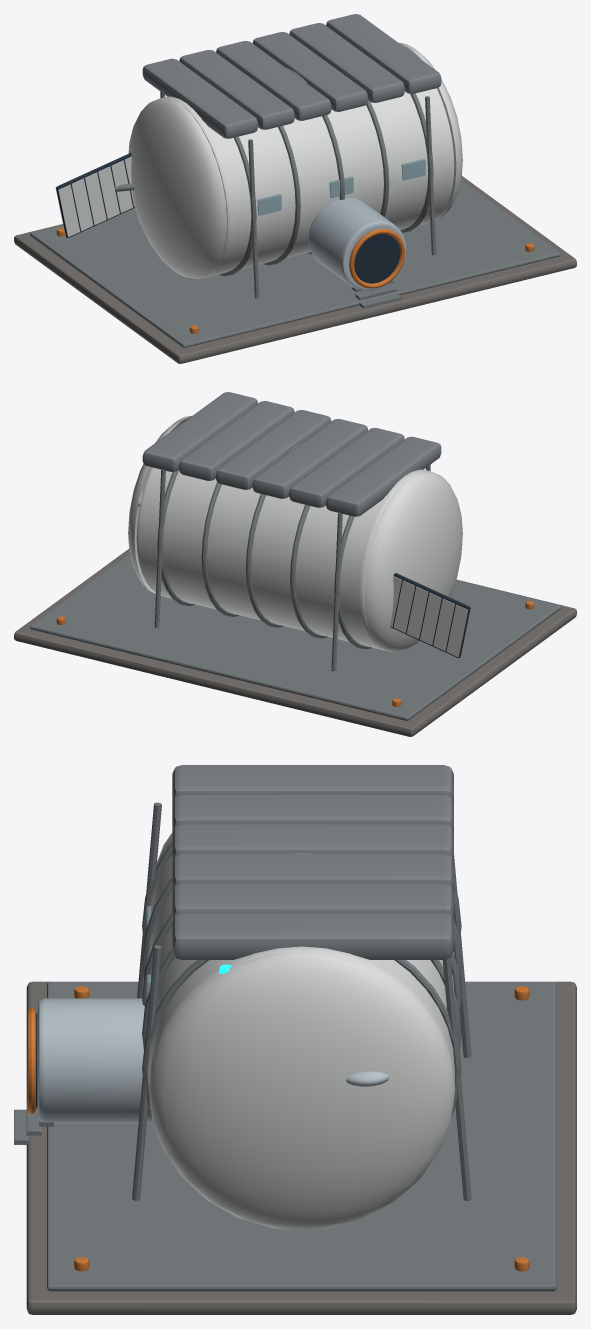
The model's file is polar-habitat.glb.
3 views of the same model, one above another, from view 1: azimuth 30°, elevation 25°; view 2: azimuth 150°, elevation 25°; view 3: azimuth 270°, elevation 25° (orthographic). The views are drawn at different scales.
Parts seen in each view (by area): view 1: RenderBatch_PolarHabitat_POLAR_HAB_ThermalWhite, RenderBatch_PolarHabitat_POLAR_HAB_Frame, PolarHabitat_Foundation, RenderBatch_PolarHabitat_POLAR_HAB_Body, PolarHabitat_ShieldTile_01, Detail_PolarHabitat_Radiator, PolarHabitat_ShieldTile_03, PolarHabitat_ShieldTile_06, PolarHabitat_ShieldTile_05, PolarHabitat_ShieldTile_02, PolarHabitat_ShieldTile_04, PolarHabitat_Door (+2 smaller); view 2: RenderBatch_PolarHabitat_POLAR_HAB_ThermalWhite, RenderBatch_PolarHabitat_POLAR_HAB_Frame, PolarHabitat_Foundation, PolarHabitat_ShieldTile_01, Detail_PolarHabitat_Radiator, PolarHabitat_ShieldTile_03, PolarHabitat_ShieldTile_02, PolarHabitat_ShieldTile_06, PolarHabitat_ShieldTile_05, PolarHabitat_ShieldTile_04, PolarHabitat_Radiator; view 3: RenderBatch_PolarHabitat_POLAR_HAB_Frame, RenderBatch_PolarHabitat_POLAR_HAB_ThermalWhite, PolarHabitat_Foundation, RenderBatch_PolarHabitat_POLAR_HAB_Body, PolarHabitat_ShieldTile_06, PolarHabitat_ShieldTile_02, PolarHabitat_ShieldTile_05, PolarHabitat_ShieldTile_01, PolarHabitat_ShieldTile_04, PolarHabitat_ShieldTile_03, RenderBatch_PolarHabitat_POLAR_HAB_SafetyOrange.
Boxes of the visible parts, <box> form: RenderBatch_PolarHabitat_POLAR_HAB_ThermalWhite: <box>128,42,462,278</box>; RenderBatch_PolarHabitat_POLAR_HAB_Frame: <box>30,67,560,347</box>; PolarHabitat_Foundation: <box>14,176,576,363</box>; RenderBatch_PolarHabitat_POLAR_HAB_Body: <box>308,197,406,290</box>; PolarHabitat_ShieldTile_01: <box>142,58,257,138</box>; Detail_PolarHabitat_Radiator: <box>55,156,134,237</box>; PolarHabitat_ShieldTile_03: <box>216,41,331,120</box>; PolarHabitat_ShieldTile_06: <box>326,14,441,93</box>; PolarHabitat_ShieldTile_05: <box>289,23,404,102</box>; PolarHabitat_ShieldTile_02: <box>179,50,294,129</box>; PolarHabitat_ShieldTile_04: <box>252,32,367,111</box>; PolarHabitat_Door: <box>354,233,400,283</box>; RenderBatch_PolarHabitat_POLAR_HAB_ThermalWhite: <box>128,415,462,651</box>; RenderBatch_PolarHabitat_POLAR_HAB_Frame: <box>30,440,560,720</box>; PolarHabitat_Foundation: <box>14,549,576,736</box>; PolarHabitat_ShieldTile_01: <box>326,436,441,516</box>; Detail_PolarHabitat_Radiator: <box>390,576,470,657</box>; PolarHabitat_ShieldTile_03: <box>252,419,367,498</box>; PolarHabitat_ShieldTile_02: <box>289,427,404,507</box>; PolarHabitat_ShieldTile_06: <box>142,392,257,471</box>; PolarHabitat_ShieldTile_05: <box>179,401,294,480</box>; PolarHabitat_ShieldTile_04: <box>216,410,331,489</box>; PolarHabitat_Radiator: <box>390,573,470,657</box>; RenderBatch_PolarHabitat_POLAR_HAB_Frame: <box>14,802,556,1291</box>; RenderBatch_PolarHabitat_POLAR_HAB_ThermalWhite: <box>148,833,454,1229</box>; PolarHabitat_Foundation: <box>26,981,576,1314</box>; RenderBatch_PolarHabitat_POLAR_HAB_Body: <box>37,998,389,1123</box>; PolarHabitat_ShieldTile_06: <box>172,913,453,959</box>; PolarHabitat_ShieldTile_02: <box>172,794,453,832</box>; PolarHabitat_ShieldTile_05: <box>172,883,453,921</box>; PolarHabitat_ShieldTile_01: <box>172,765,453,802</box>; PolarHabitat_ShieldTile_04: <box>172,854,453,891</box>; PolarHabitat_ShieldTile_03: <box>172,824,453,861</box>; RenderBatch_PolarHabitat_POLAR_HAB_SafetyOrange: <box>27,986,529,1271</box>.
Size of the model in its own units: 12.42 by 5.41 by 9.
